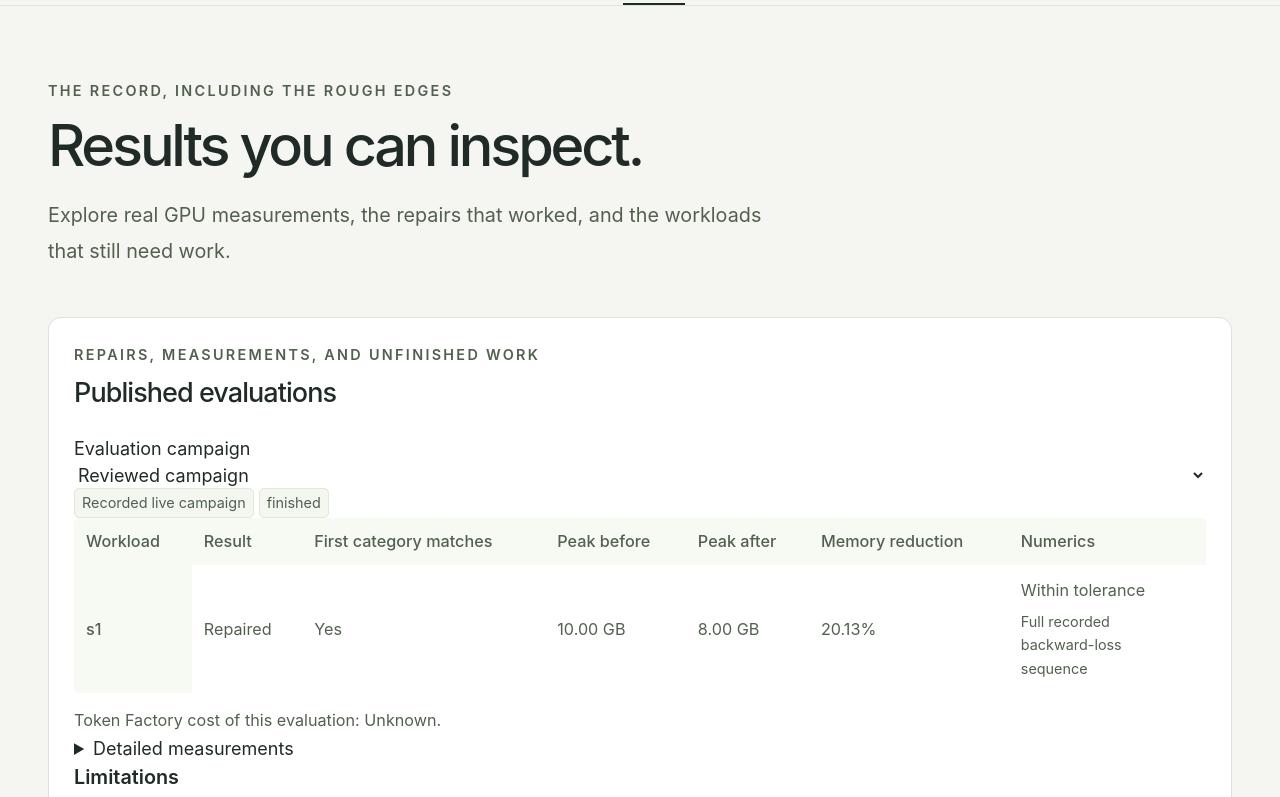
it: recorded patch and completion outcomes › keeps selected evidence apart from a later reverted candidate when search is completed
The image size is (1280, 797).
Step 1. Click the heading "Detailed measurements" → (193,748), box [93,738,294,759]
(page scrolled)
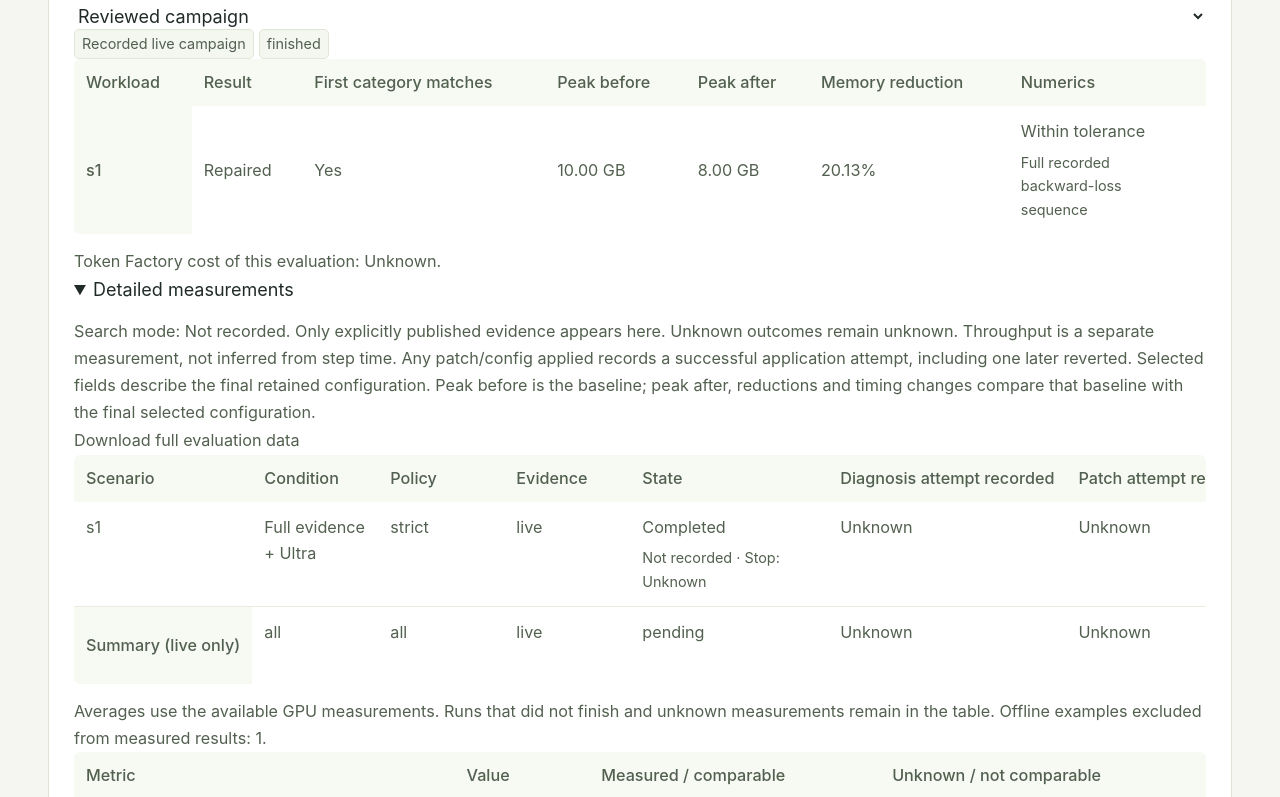
Expected: the cell "Yes" is shown, [302,106,545,234]
Expected: the text "Selected fields describe" shows "Peak before is the baseline; peak after, reductions and timing changes compare that baseline with the final selected configuration.", [74,321,1204,422]
